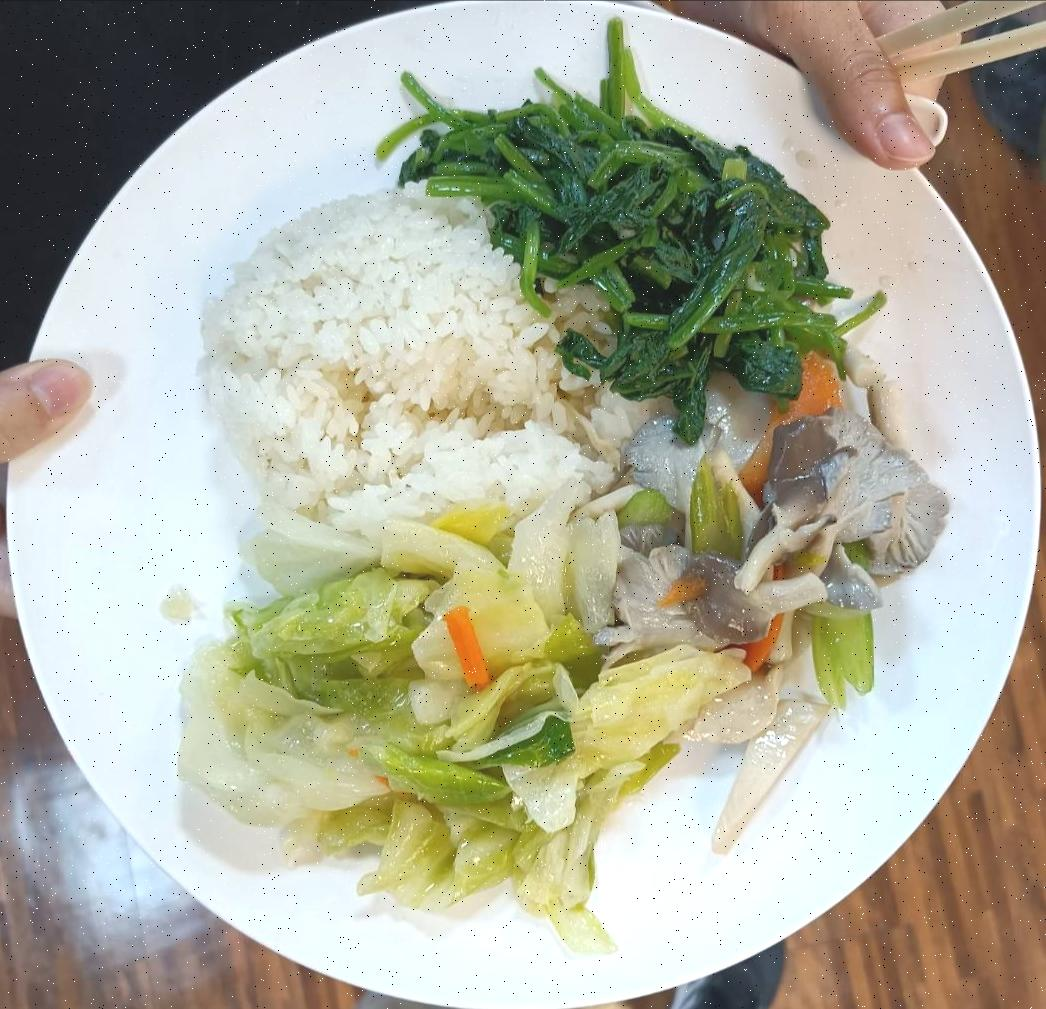plate: (0, 11, 1038, 1009)
side dish: (170, 513, 712, 951), (406, 38, 844, 414), (610, 350, 930, 654)
white rice: (200, 196, 624, 522)
